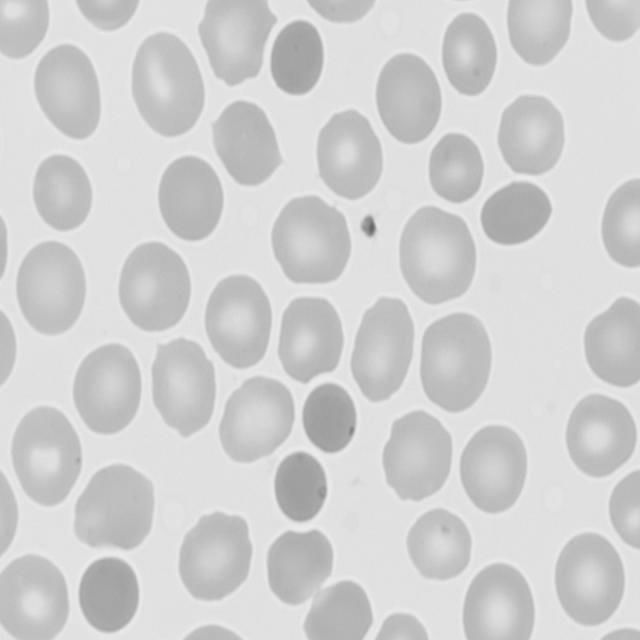RBC: (126, 29, 208, 138), (266, 189, 352, 291), (396, 202, 478, 308), (418, 309, 498, 416), (344, 294, 416, 409), (174, 506, 254, 606), (28, 38, 104, 141), (552, 528, 630, 628), (7, 408, 86, 506), (74, 460, 158, 552), (115, 236, 193, 334), (73, 338, 147, 440), (218, 373, 300, 465), (14, 237, 90, 334), (146, 338, 220, 436), (380, 411, 456, 506), (203, 274, 275, 374), (314, 106, 388, 203), (563, 388, 639, 482), (272, 290, 347, 385), (210, 94, 284, 189), (458, 424, 532, 518), (374, 52, 444, 150), (198, 0, 275, 89), (495, 90, 570, 180), (260, 522, 338, 604), (0, 554, 73, 639), (439, 12, 504, 104), (462, 565, 540, 640), (404, 504, 472, 587), (579, 294, 640, 386), (28, 150, 93, 234), (481, 179, 557, 249), (504, 0, 574, 70), (426, 130, 491, 205), (300, 577, 378, 639), (599, 173, 640, 275), (0, 0, 52, 68), (608, 465, 640, 550), (66, 0, 147, 32), (580, 0, 640, 42), (0, 459, 23, 564), (300, 0, 390, 26)
Spherocyte: (156, 153, 227, 247), (78, 554, 146, 635), (268, 17, 329, 102), (272, 446, 332, 527), (298, 382, 359, 456)
